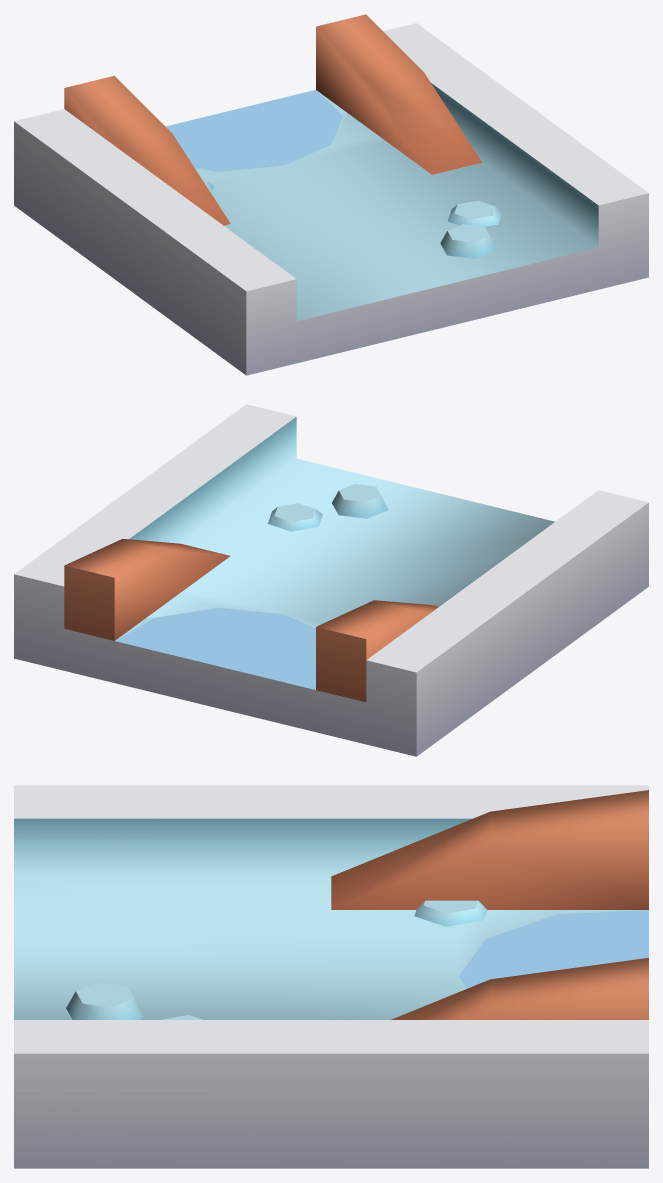
Rendered from snow-tile-river-transition.glb.
The picture shows the model from 3 angles, top to bottom: view 1: azimuth 30°, elevation 25°; view 2: azimuth 150°, elevation 25°; view 3: azimuth 270°, elevation 25°; orthographic projection. The views are drawn at different scales.
Parts seen in each view (by area): view 1: snow-tile-river-transition; view 2: snow-tile-river-transition; view 3: snow-tile-river-transition.
Boxes of the visible parts, box(x1,y1,x2,y2) form: snow-tile-river-transition: box(14, 14, 648, 375); snow-tile-river-transition: box(14, 404, 648, 756); snow-tile-river-transition: box(14, 785, 648, 1168).
Bounding box in the file's own units: 1 × 0.25 × 1.
1 material, 1 textured.
